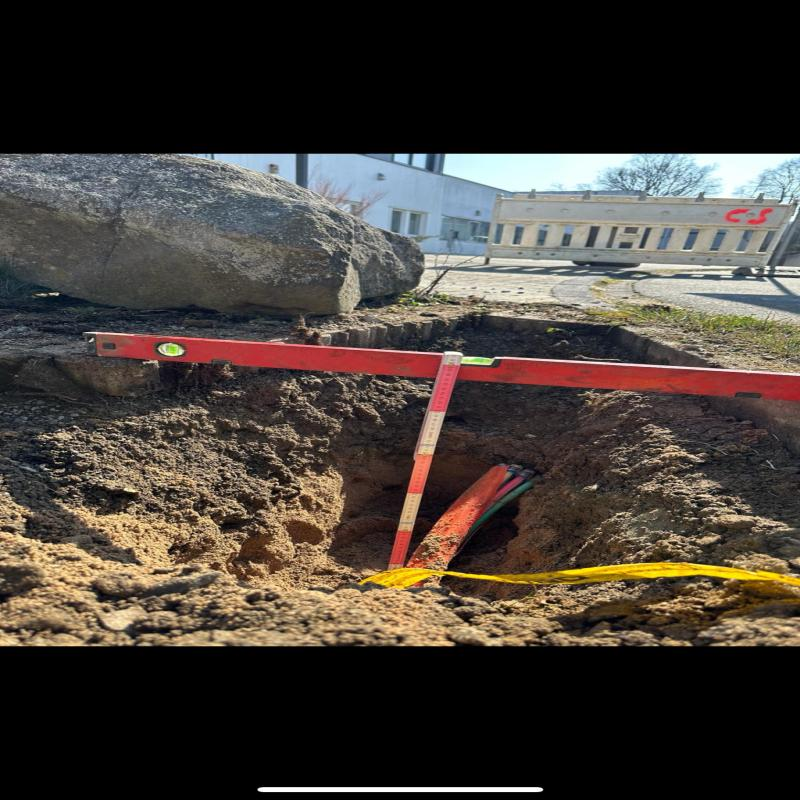Orang-Speednetrohrchen: (412, 464, 541, 571)
